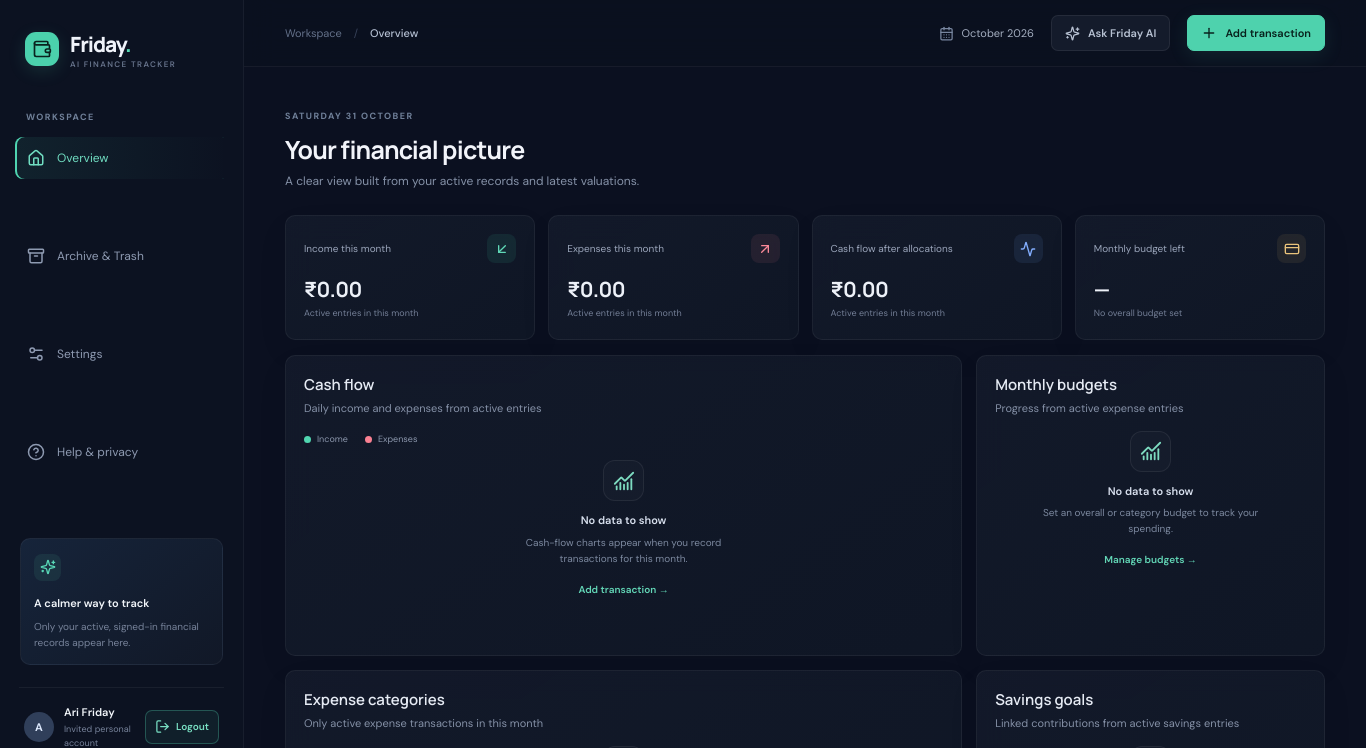
Scenario: authenticated sidebar logout › shows a useful error and keeps the signed-in account when sign-out fails
The width and height of the screenshot is (1366, 748).
Expected: the text "Ari Friday" is shown, [64,704,115,718]
Click the button "Logout" at (182, 727), box [145,710,219,744]
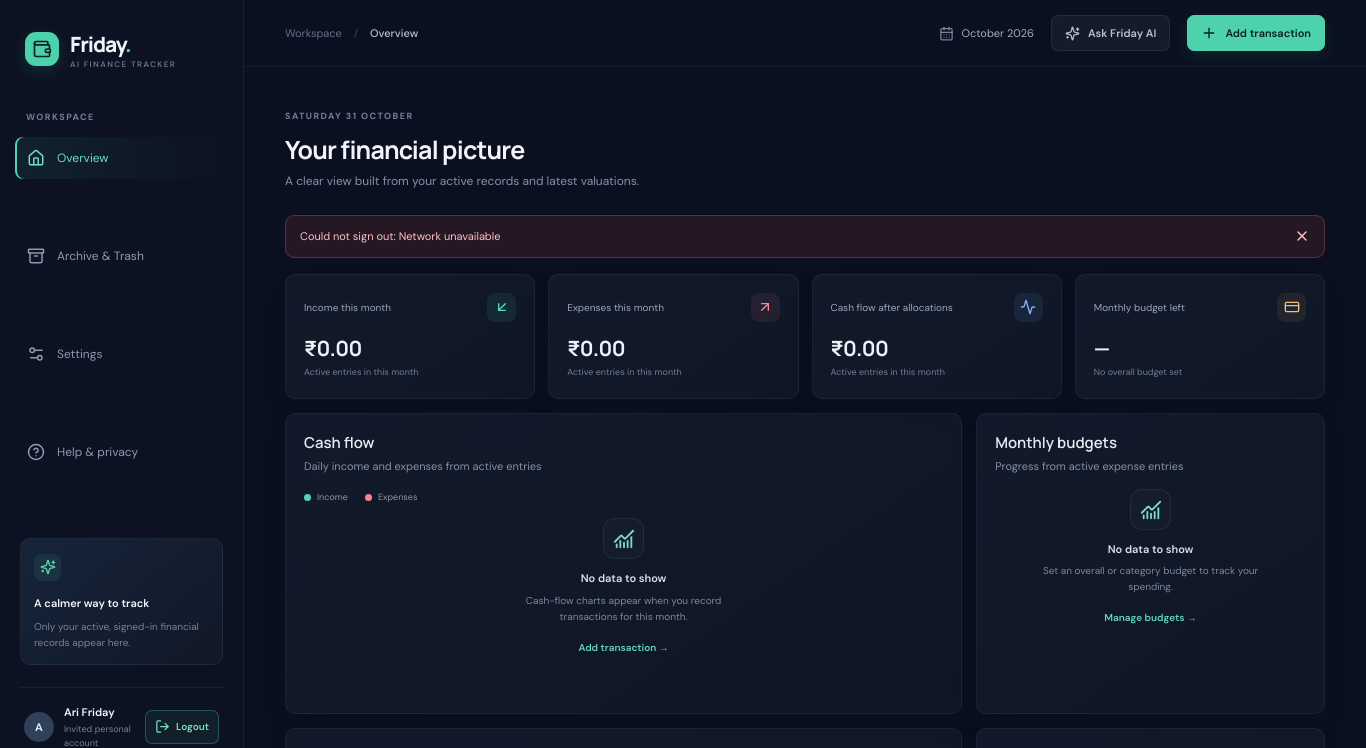
Expected: the text "Ari Friday" is shown, [64,704,115,718]
Expected: the message reads "Could not sign out: Network unavailable", [300,229,500,243]
